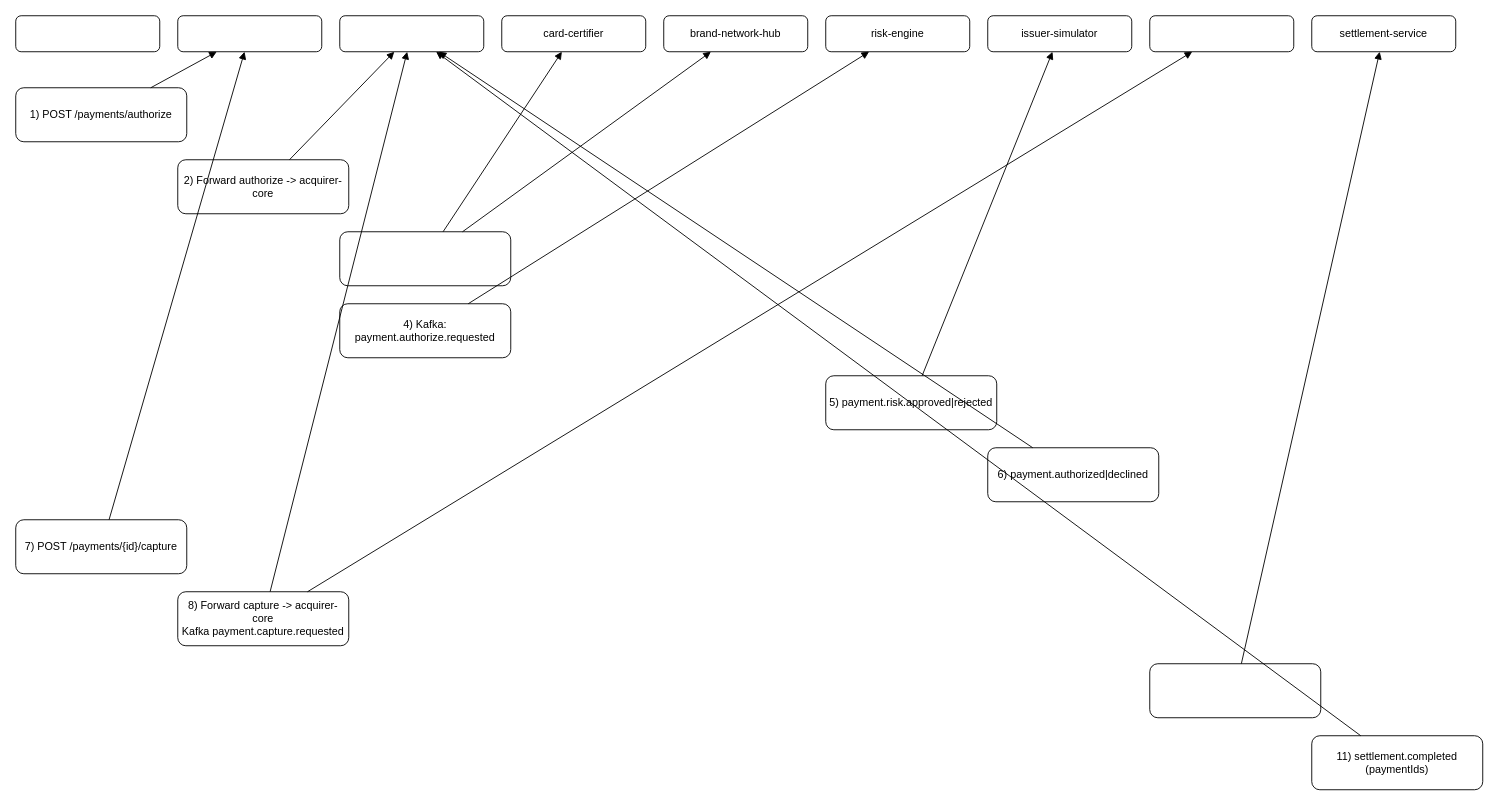
Image size: 1499x806. Some labels were removed from this diagram. Each missing label, with the centre of its shape:
3) Validate card (certifier + brand): (x=425, y=258)
9) payment.captured 10) clearing.batch.closed: (x=1235, y=690)
acquirer-core: (x=411, y=33)
clearing-service: (x=1221, y=33)
merchant-api: (x=249, y=33)
Merchant/Client: (x=87, y=33)
